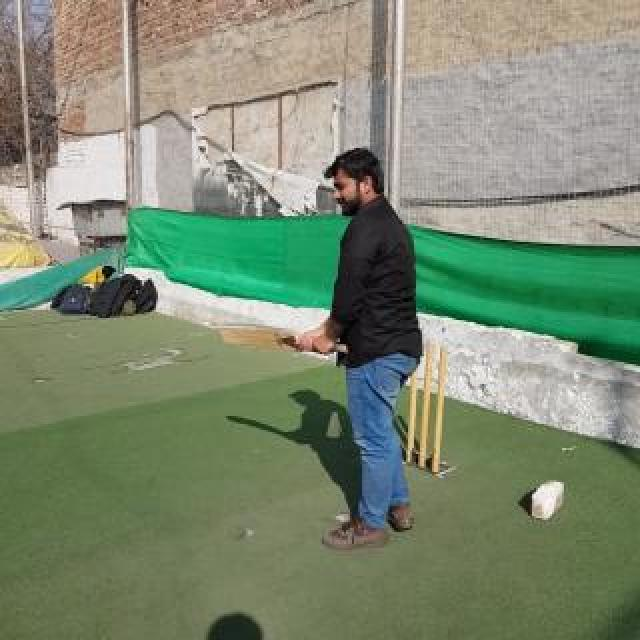bat: (217, 322, 349, 352)
